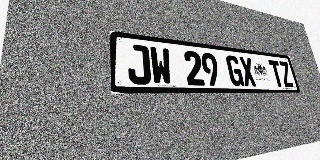2: (183, 50, 205, 86)
9: (200, 52, 221, 86)
G: (225, 55, 245, 86)
J: (126, 44, 152, 85)
T: (268, 60, 285, 87)
W: (149, 46, 173, 85)
X: (238, 56, 257, 86)
Z: (278, 61, 294, 87)
